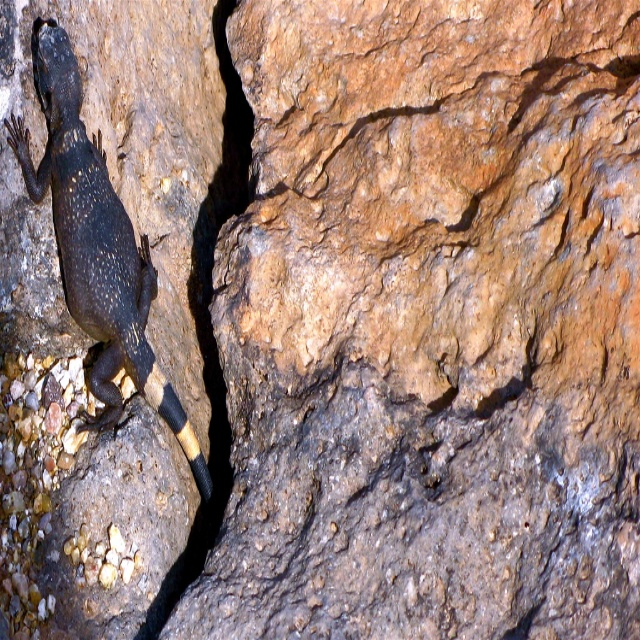Lizard: (32, 8, 227, 578)
